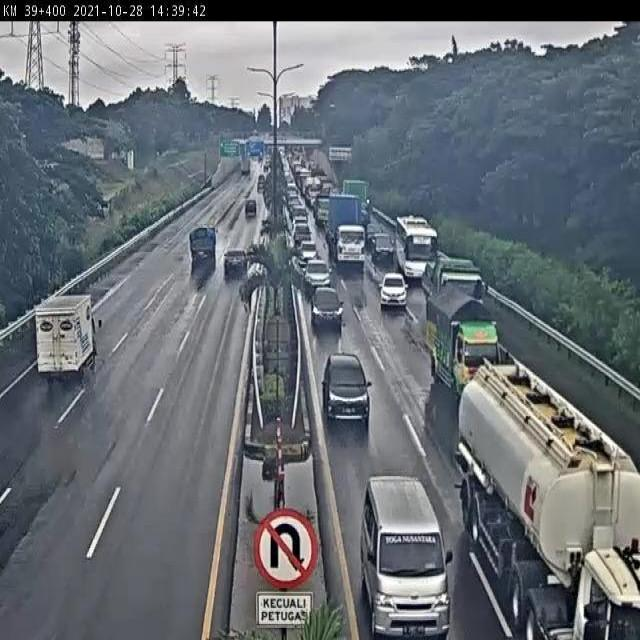big bus: (395, 212, 435, 277)
big truck: (460, 364, 640, 640), (328, 188, 367, 265)
car: (357, 476, 451, 640), (324, 355, 373, 420), (308, 287, 343, 328), (380, 269, 407, 304), (223, 248, 250, 275), (302, 252, 327, 281), (371, 229, 394, 259), (297, 236, 320, 263), (242, 197, 259, 219)
mid truck: (427, 256, 488, 317)
small truck: (6, 314, 80, 414), (190, 224, 215, 263)
truck-m-: (426, 282, 505, 394)
